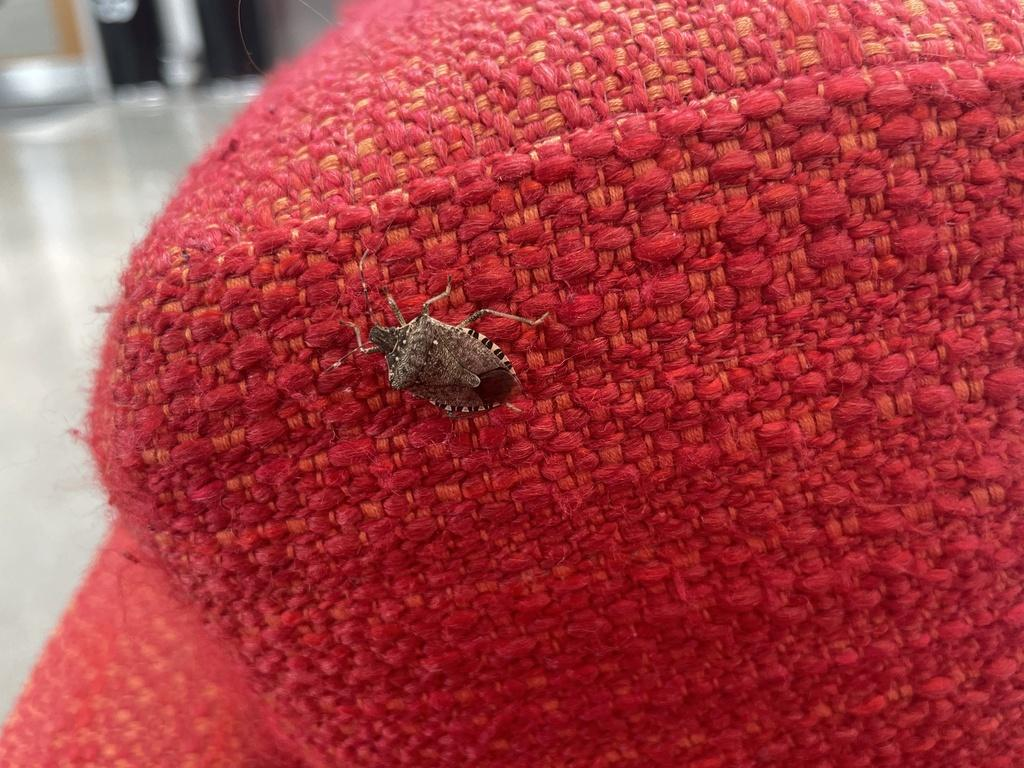stink_bugs: (280, 226, 599, 474)
